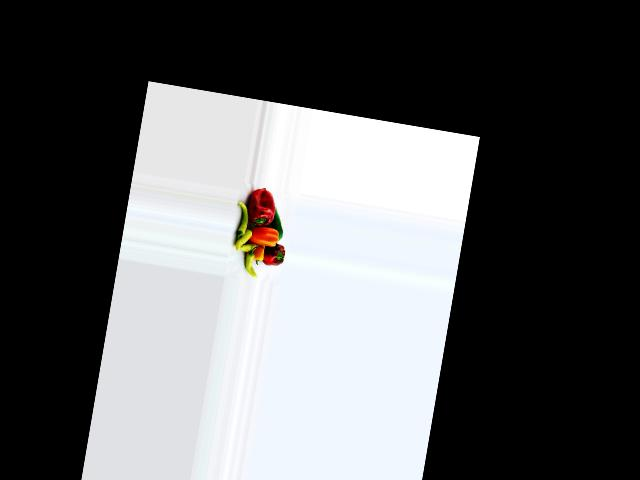bell_pepper: (232, 199, 251, 241)
